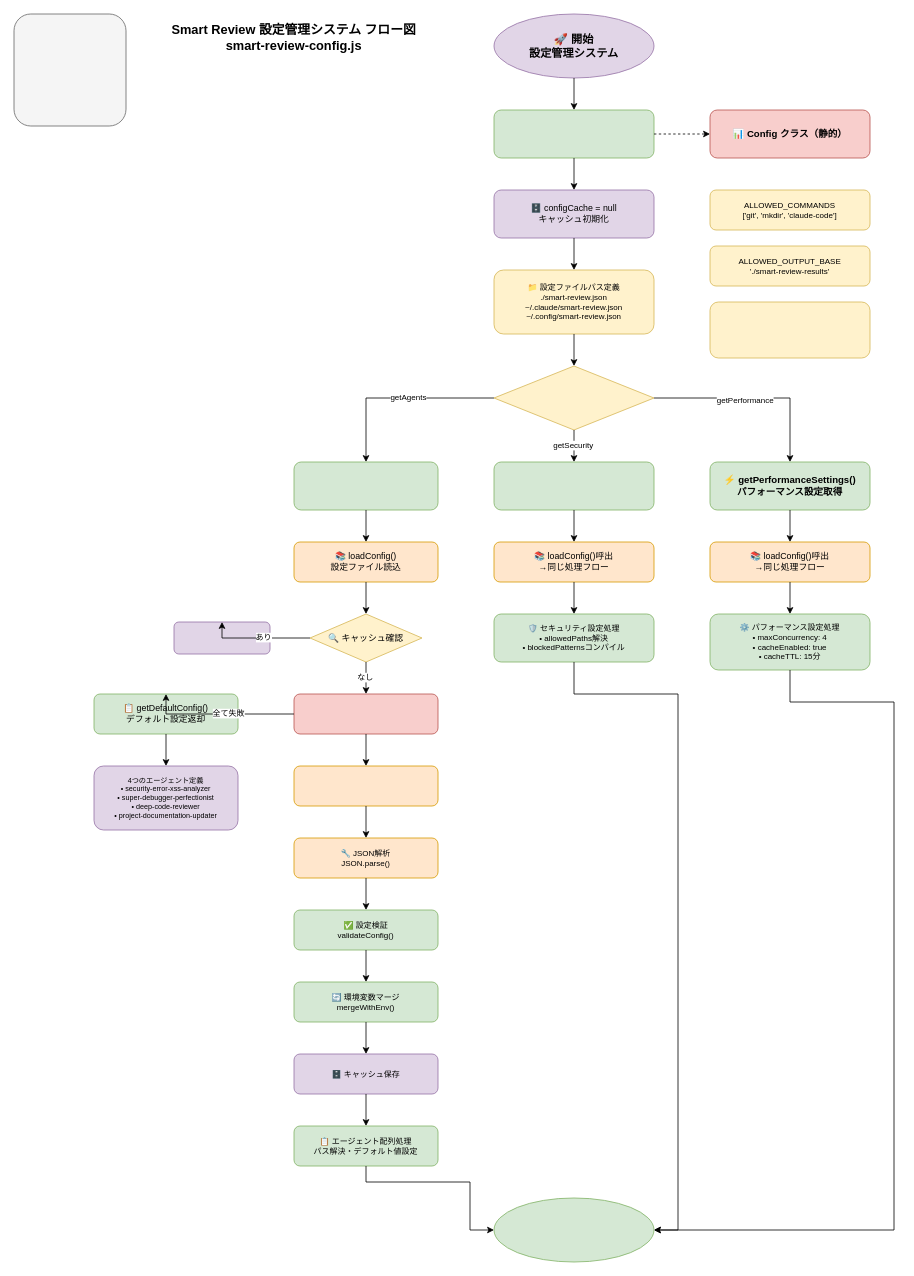
Some shapes in this 914 by 1276 pixel diagram are drawn without their labels. Here are the shapes that lost their labels. From the top down, the centre of each, then its label:
the point at 69,69: 🔍 凡例 ━━ メインフロー ┅┅ 関連情報 📚 設定読込処理 🤖 エージェント処理 🔒 セキュリティ処理 ⚡ パフォーマンス処理 📊 静的定数
the point at 573,133: 📦 SmartReviewConfig クラス初期化
the point at 789,329: 各種タイムアウト設定 COMMAND_TIMEOUT: 60秒 AGENT_TIMEOUT: 120秒 COMMENT_TIMEOUT: 180秒
the point at 573,397: メソッド呼出
the point at 365,485: 🤖 getAgents() エージェント設定取得
the point at 573,485: 🔒 getSecuritySettings() セキュリティ設定取得
the point at 221,637: ✅ キャッシュ返却
the point at 365,713: 📂 設定ファイル探索 順番にチェック
the point at 365,785: 📖 ファイル読込 fs.readFile()
the point at 573,1229: ✅ 設定取得成功 設定オブジェクト返却
